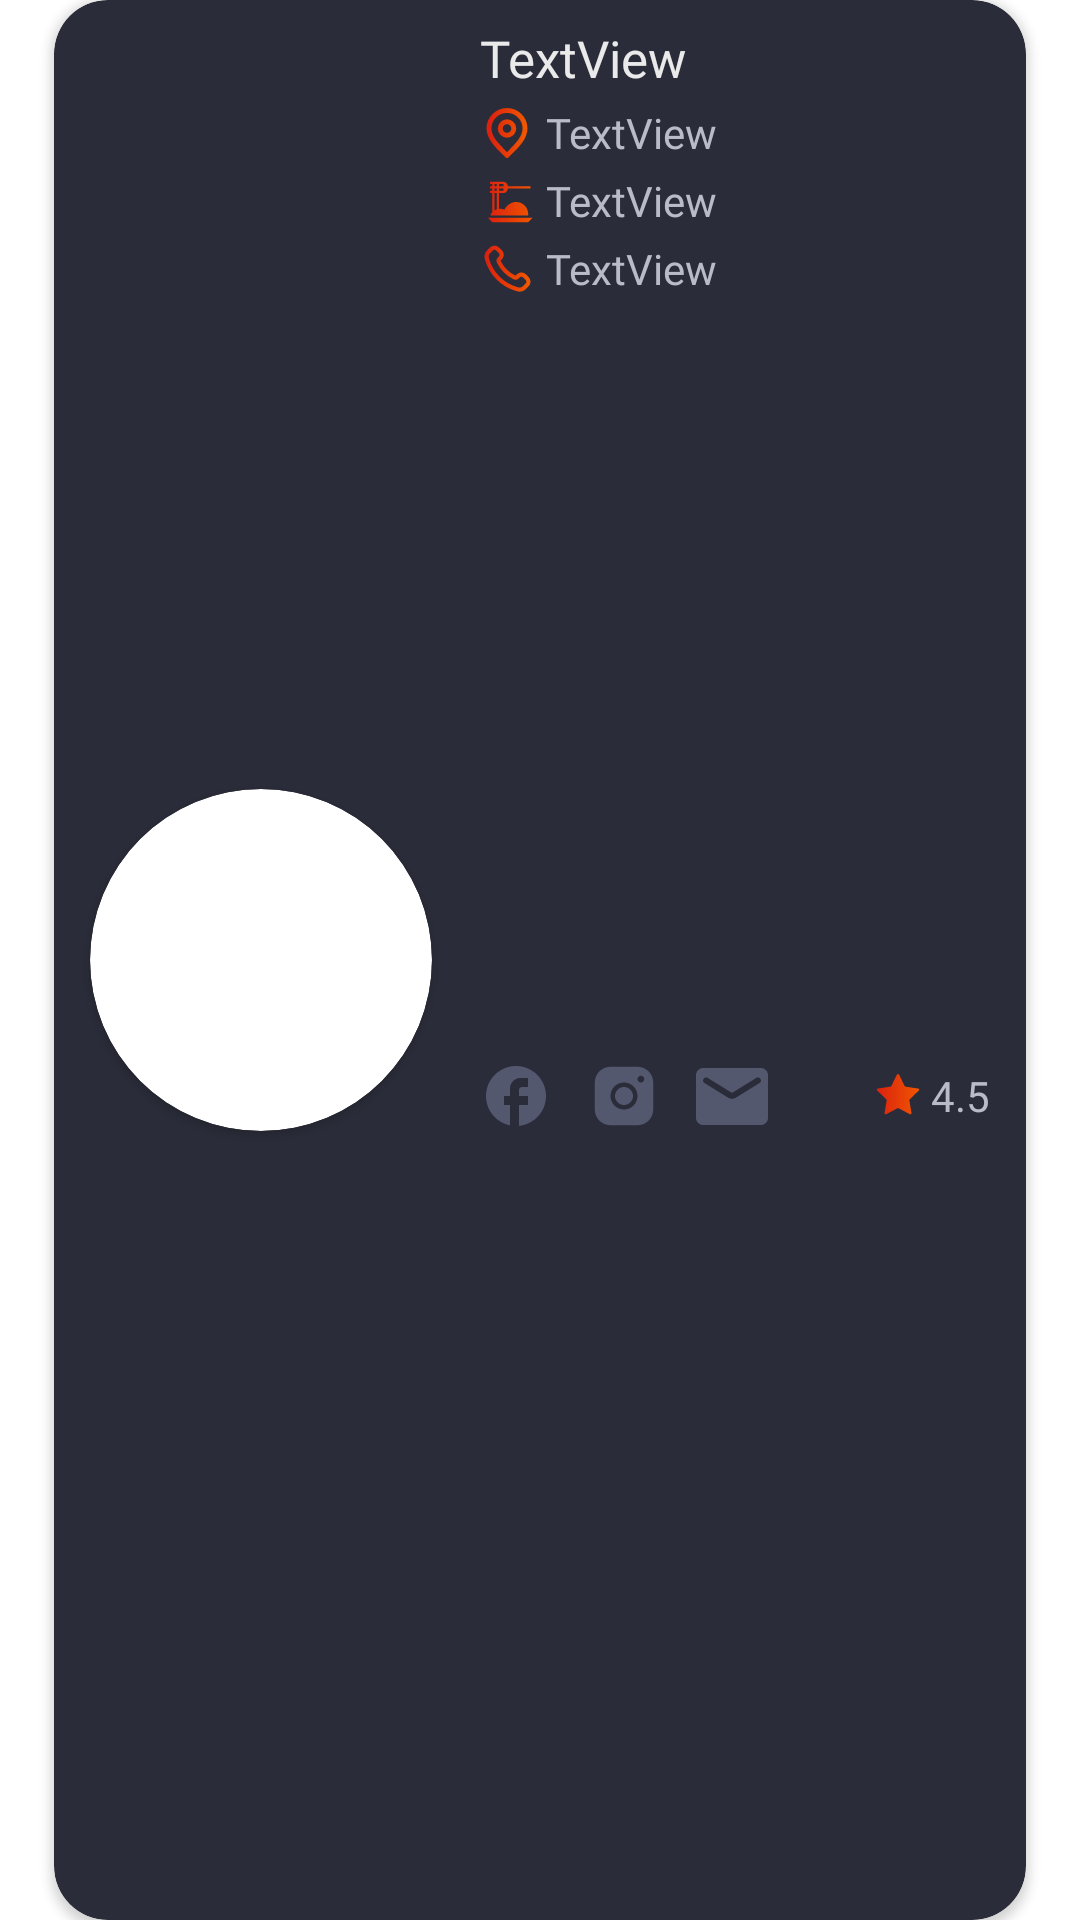

Point at icon controls on the screen. Image size 1080*1920, points as [x,y].
email: [732,1096]
map pin: [507,133]
phone: [507,268]
rating: [898,1094]
restaurant type: [510,202]
